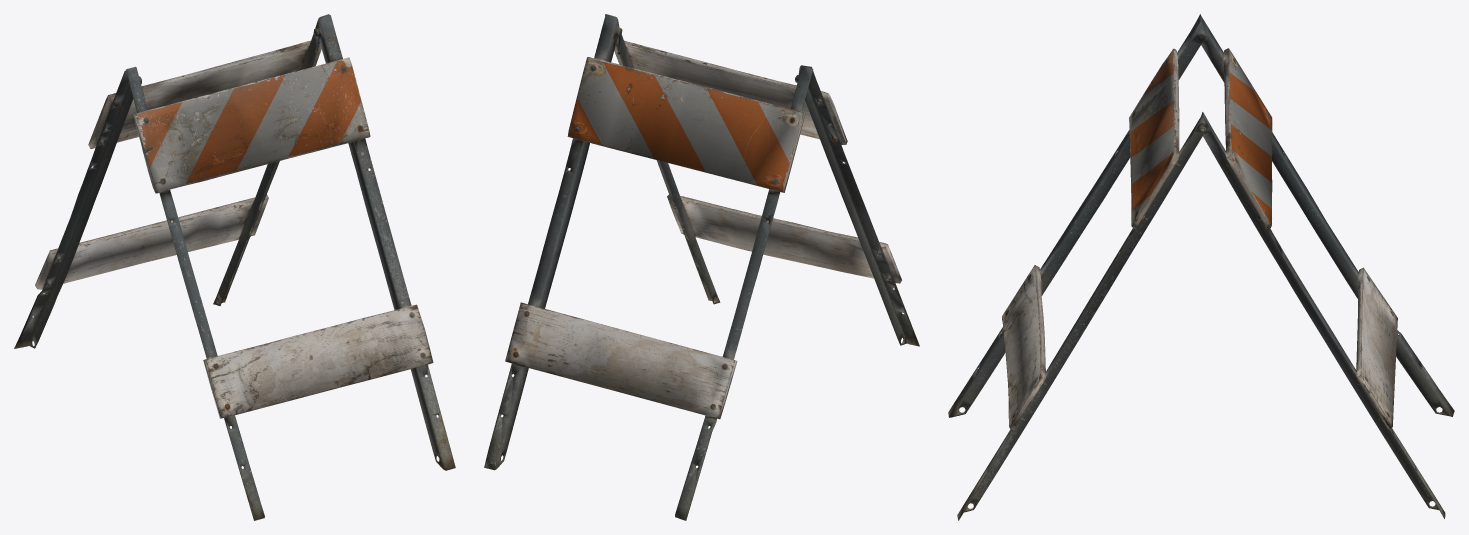
Rendered from SM_vgledec_tier_3.gltf.
3 renders of one model, left to right at view 1: azimuth 30°, elevation 25°; view 2: azimuth 150°, elevation 25°; view 3: azimuth 270°, elevation 25°, orthographic. The views are drawn at different scales.
Visible parts, largest first — view 1: SM_vgledec; view 2: SM_vgledec; view 3: SM_vgledec.
Part boxes in pixels (x1,y1,x2,y2): SM_vgledec: (14,14,455,520); SM_vgledec: (484,14,919,520); SM_vgledec: (948,14,1454,520).
Bounding box in the file's own units: 0.6269 × 1 × 1.15.
1 material, 1 textured.
